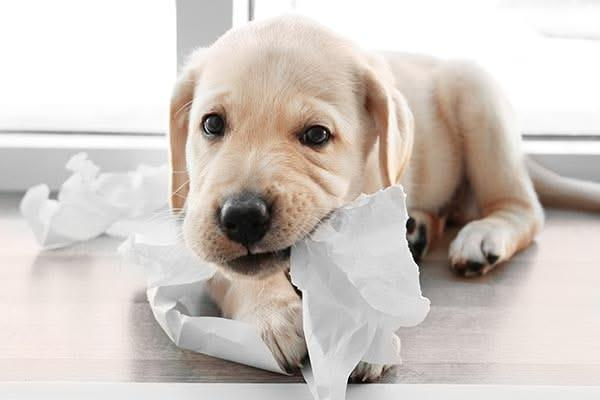puppy-dog: (167, 10, 600, 382)
